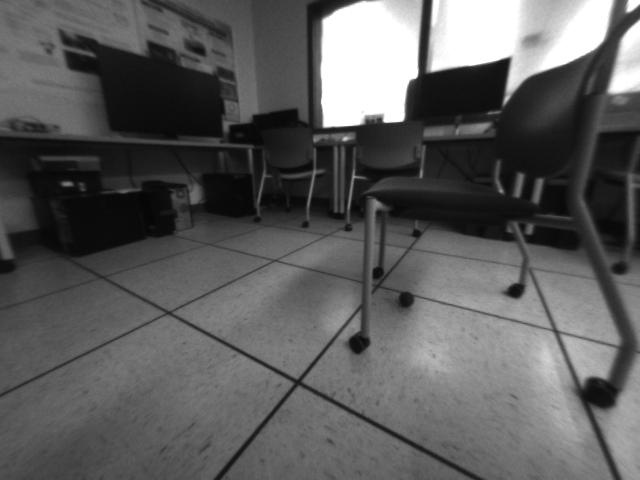dogtoy: (392, 285, 422, 312)
